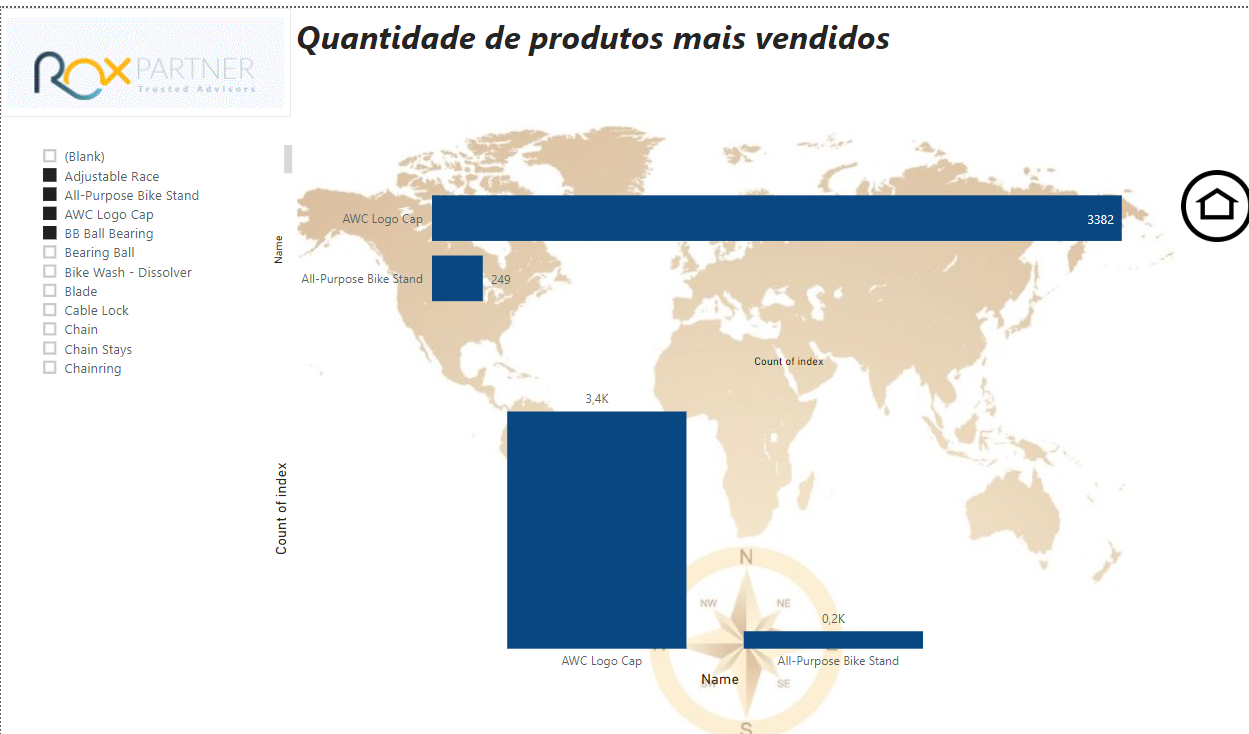

The page's visual inventory and layout, read from the dashboard file:
{"tool":"powerbi","page":{"name":"VendasporValores","canvas":[1280,720],"ordinal":2},"visuals":[{"type":"image","box":[0,0,286.5,107.3],"z":0},{"type":"slicer","fields":{"Values":["ProductionProduct.Name"]},"box":[28.9,130.5,263.7,240.9],"z":6},{"type":"clusteredBarChart","fields":{"Category":["ProductionProduct.Name"],"Y":["CountNonNull(SalesOrderDetail.index)"]},"box":[263.9,118.5,872.1,241.3],"z":1000},{"type":"textbox","box":[286.5,0,636.5,80.4],"z":2000},{"type":"image","box":[1153,151,96,88.9],"z":6000},{"type":"columnChart","fields":{"Category":["ProductionProduct.Name"],"Y":["CountNonNull(SalesOrderDetail.index)"]},"box":[263.9,341.5,872.1,334.5],"z":8000}]}

Visuals, with their boxes on the page's 1280x720 design canvas (x1, y1, x2, y2). These are canvas units, not pixel positions in the 1249x734 screenshot, which may show the page scaled, cropped or inside an application window:
image: {"left": 0, "top": 0, "right": 286, "bottom": 107}
slicer - ProductionProduct.Name: {"left": 29, "top": 130, "right": 293, "bottom": 371}
clusteredBarChart - ProductionProduct.Name x CountNonNull(SalesOrderDetail.index): {"left": 264, "top": 118, "right": 1136, "bottom": 360}
textbox: {"left": 286, "top": 0, "right": 923, "bottom": 80}
image: {"left": 1153, "top": 151, "right": 1249, "bottom": 240}
columnChart - ProductionProduct.Name x CountNonNull(SalesOrderDetail.index): {"left": 264, "top": 342, "right": 1136, "bottom": 676}
